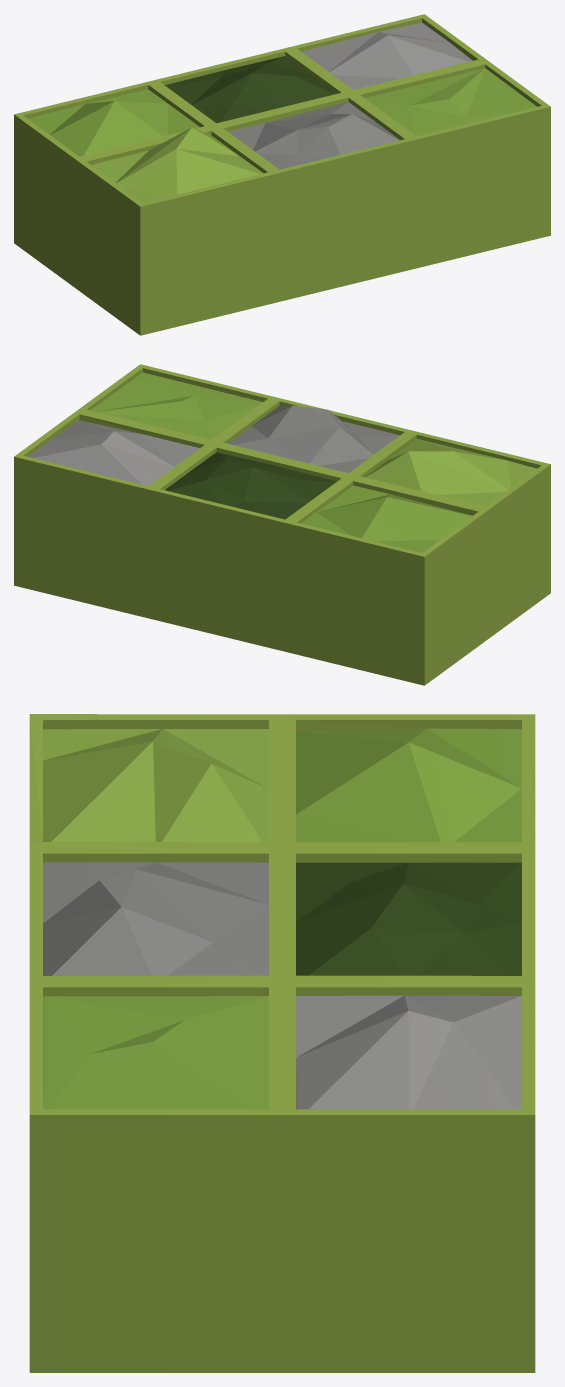
Rendered from SuperMarketPart_01.fbx.
The picture shows the model from 3 angles, top to bottom: view 1: azimuth 30°, elevation 25°; view 2: azimuth 150°, elevation 25°; view 3: azimuth 270°, elevation 25°; orthographic projection. The views are drawn at different scales.
Visible parts, largest first — view 1: SuperMarketPart_01; view 2: SuperMarketPart_01; view 3: SuperMarketPart_01.
Boxes of the visible parts, bbox=[...] form: SuperMarketPart_01: bbox=[14, 14, 550, 335]; SuperMarketPart_01: bbox=[14, 364, 550, 685]; SuperMarketPart_01: bbox=[29, 714, 535, 1372].
Bounding box in the file's own units: 3 × 1.06 × 1.6.
